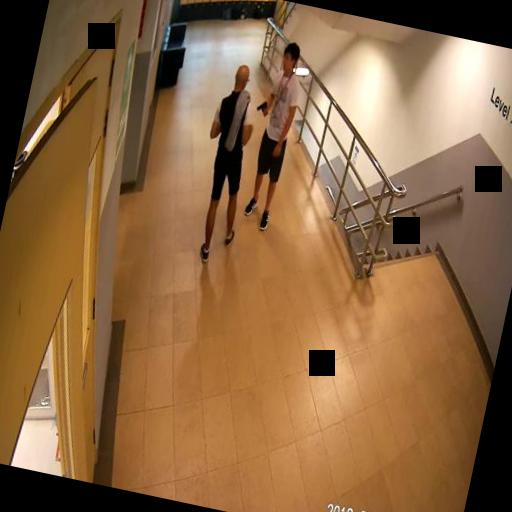Handgun: (254, 98, 268, 114)
